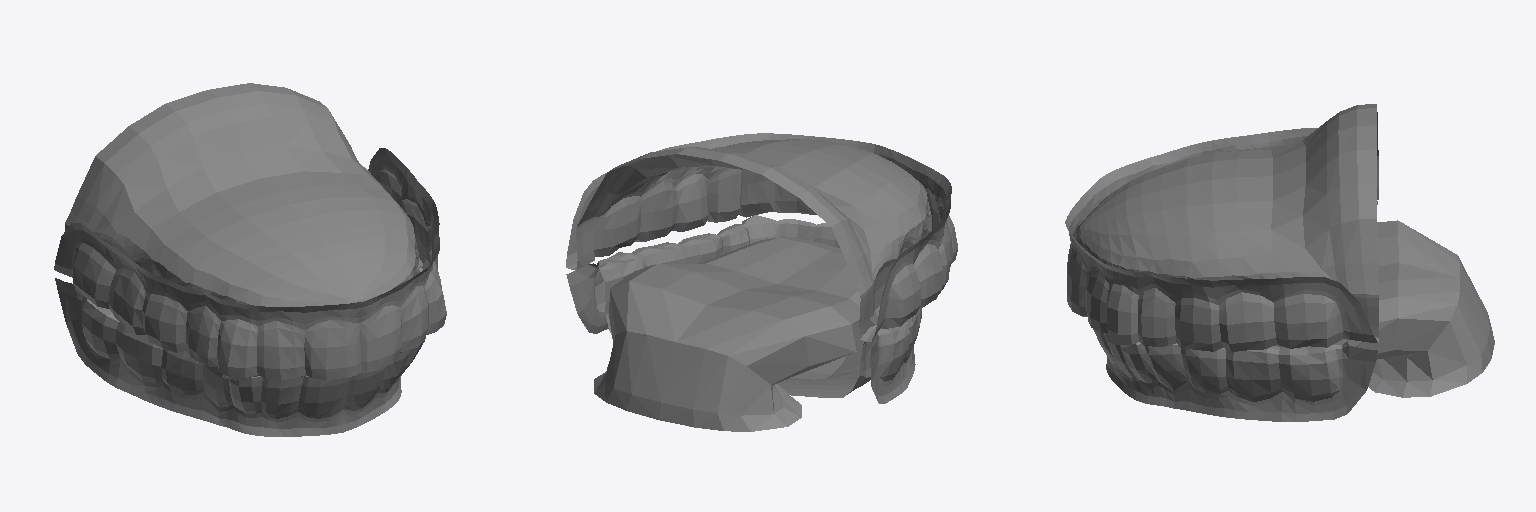
Rendered from teeth.OBJ.
3 views of the same model, side by side, from view 1: azimuth 30°, elevation 25°; view 2: azimuth 150°, elevation 25°; view 3: azimuth 270°, elevation 25° (orthographic).
Parts seen in each view (by area): view 1: Group1059, Group1014; view 2: Group1059, Group1104, Group1014; view 3: Group1059, Group1014, Group1104.
Part boxes in pixels (x1,y1,x2,y2): Group1059: (54, 83, 446, 380); Group1014: (55, 278, 424, 436); Group1059: (566, 133, 957, 341); Group1104: (594, 238, 864, 431); Group1014: (566, 215, 922, 403); Group1059: (1065, 104, 1378, 351); Group1014: (1093, 201, 1377, 421); Group1104: (1275, 220, 1494, 397).
Size of the model in its own units: 57.87 by 45.3 by 67.54.